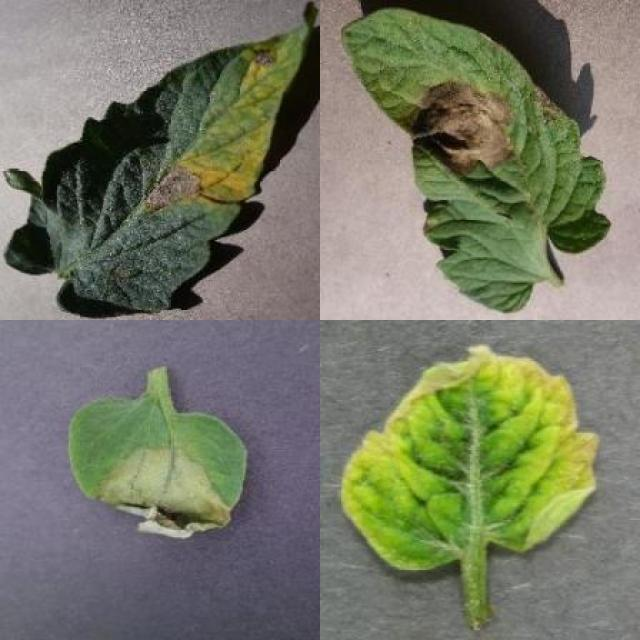Early Blight: (1, 7, 320, 312)
Late Blight: (340, 7, 610, 314), (68, 394, 248, 539)
Yellow Leaf Curl Virus: (342, 344, 602, 574)
